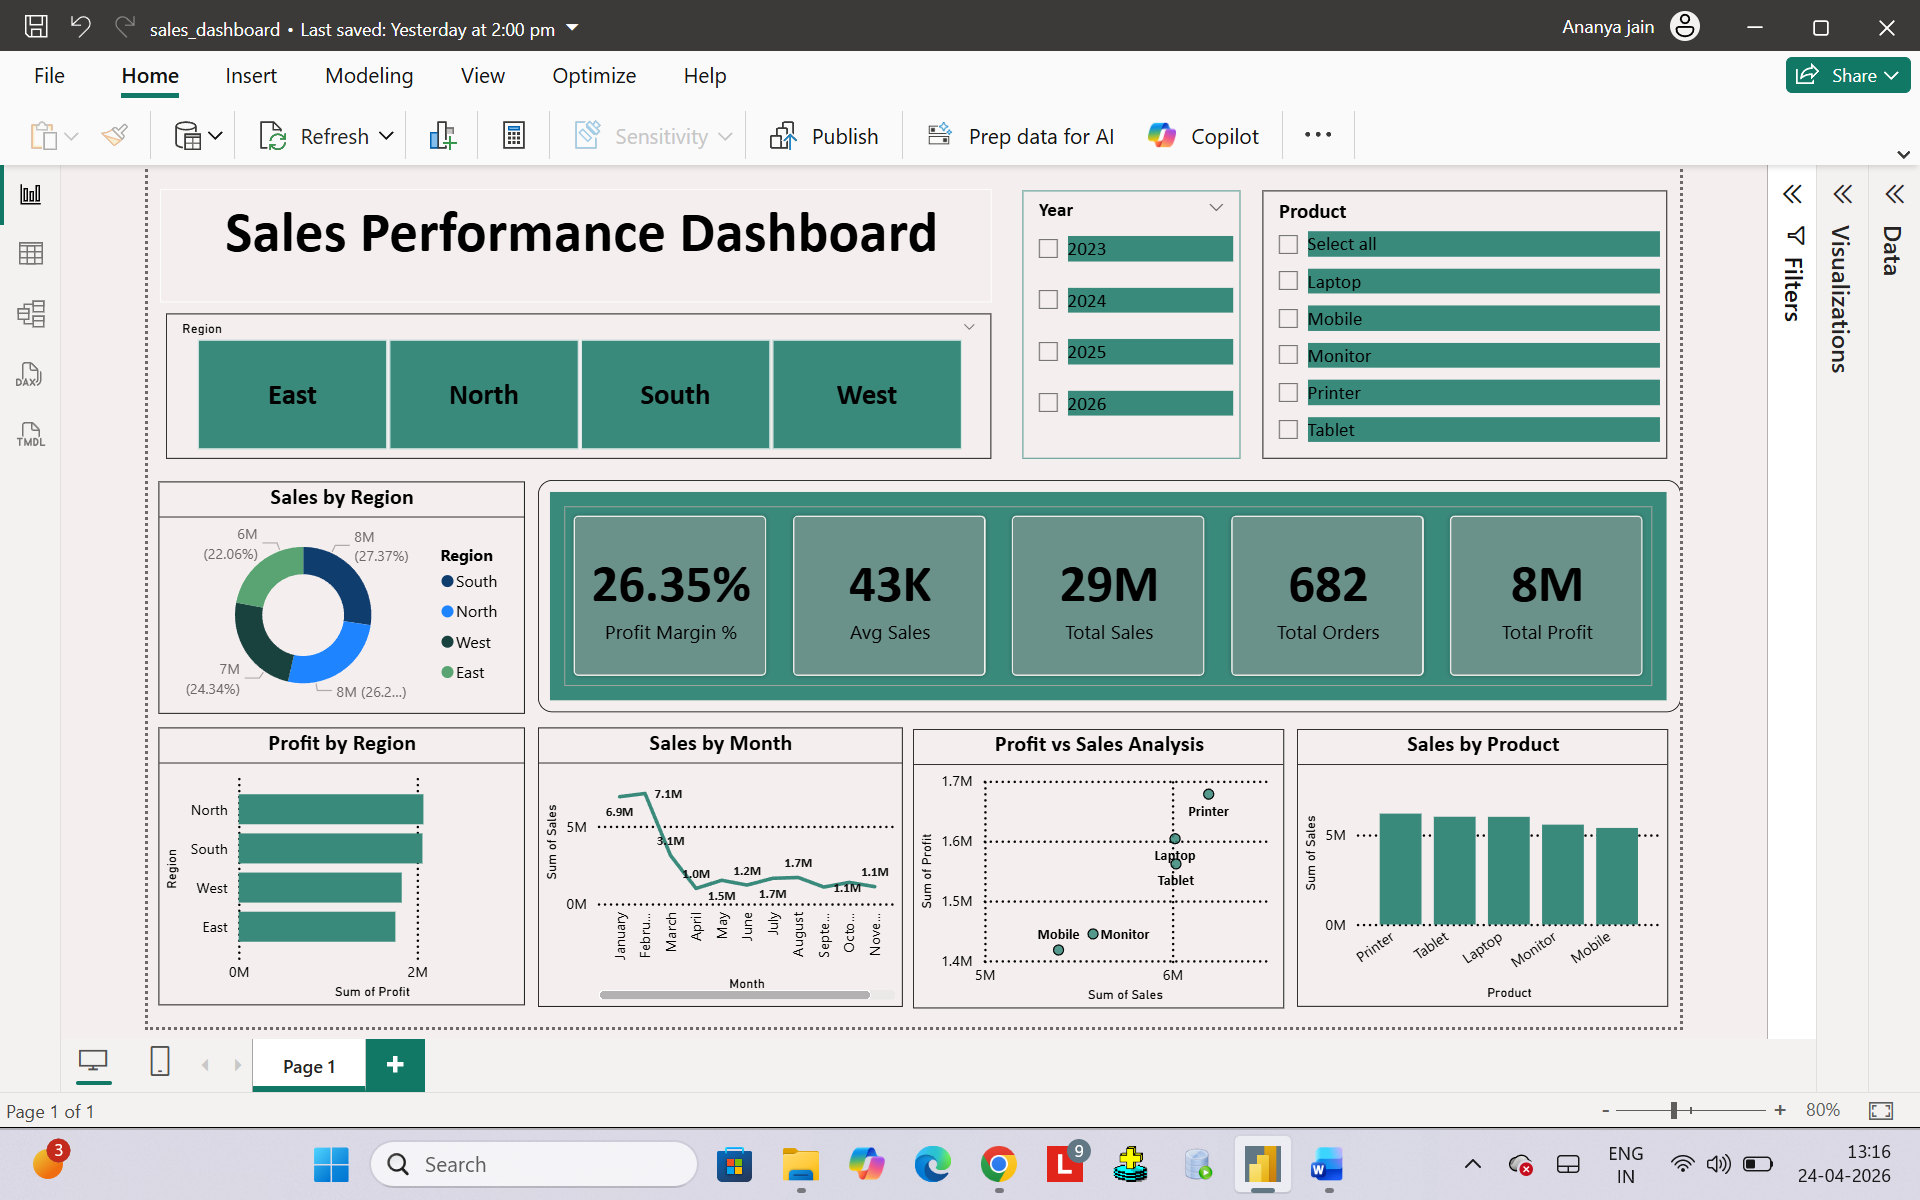

The dashboard page shown, as its layout file describes it:
{"tool":"powerbi","page":{"name":"Page 1","canvas":[1280,720],"ordinal":0},"visuals":[{"type":"cardVisual","fields":{"Data":["Avg(salesdb sales_data.% of Profit on Sales)","salesdb sales_data.Total Profit","salesdb sales_data.Total Sales","salesdb sales_data.Total Orders","salesdb sales_data.Total Profit1"]},"box":[325.8,263.1,954.7,194.2],"z":0},{"type":"lineChart","title":"Sales by Month","fields":{"Category":["salesdb sales_data.Order_Date.Variation.Date Hierarchy.Month"],"Y":["Sum(salesdb sales_data.Sales)"]},"box":[325.8,469.8,304.5,233],"z":1000},{"type":"barChart","title":"Profit by Region","fields":{"Category":["salesdb sales_data.Region"],"Y":["Sum(salesdb sales_data.Profit)"]},"box":[8.8,469.8,305.7,231.8],"z":2000},{"type":"columnChart","title":"Sales by Product","fields":{"Y":["Sum(salesdb sales_data.Sales)"],"Category":["salesdb sales_data.Product"]},"box":[959.3,470.7,310.1,231.9],"z":3000},{"type":"slicer","fields":{"Values":["salesdb sales_data.Order_Date.Variation.Date Hierarchy.Year"]},"box":[730,21.2,181.2,223.8],"z":4000},{"type":"slicer","fields":{"Values":["salesdb sales_data.Region"]},"box":[15,124,689.1,121.5],"z":5000},{"type":"textbox","box":[9.6,20.6,694.4,94.7],"z":6000},{"type":"scatterChart","title":"Profit vs Sales Analysis","fields":{"X":["Sum(salesdb sales_data.Sales)"],"Y":["Sum(salesdb sales_data.Profit)"],"Category":["salesdb sales_data.Product"]},"box":[639.5,470.7,310.1,233.3],"z":7000},{"type":"slicer","fields":{"Values":["salesdb sales_data.Product"]},"box":[931.2,21.2,337.7,224.1],"z":8000},{"type":"donutChart","title":"Sales by Region","fields":{"Y":["Sum(salesdb sales_data.Sales)"],"Category":["salesdb sales_data.Region"]},"box":[7.5,262.5,306.2,193.8],"z":9000}]}

Visuals, with their boxes on the page's 1280x720 design canvas (x1, y1, x2, y2). These are canvas units, not pixel positions in the 1920x1200 screenshot, which may show the page scaled, cropped or inside an application window:
cardVisual - Avg(salesdb sales_data.% of Profit on Sales) x salesdb sales_data.Total Profit: bbox(326, 263, 1280, 457)
"Sales by Month" lineChart: bbox(326, 470, 630, 703)
"Profit by Region" barChart: bbox(9, 470, 314, 702)
"Sales by Product" columnChart: bbox(959, 471, 1269, 703)
slicer - salesdb sales_data.Order_Date.Variation.Date Hierarchy.Year: bbox(730, 21, 911, 245)
slicer - salesdb sales_data.Region: bbox(15, 124, 704, 246)
textbox: bbox(10, 21, 704, 115)
"Profit vs Sales Analysis" scatterChart: bbox(640, 471, 950, 704)
slicer - salesdb sales_data.Product: bbox(931, 21, 1269, 245)
"Sales by Region" donutChart: bbox(8, 262, 314, 456)
